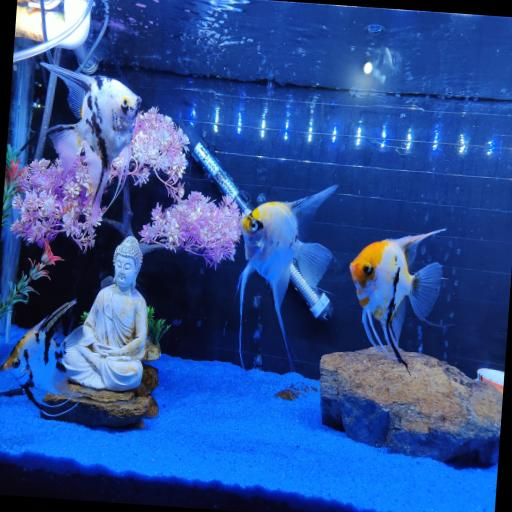Fish: (238, 185, 336, 370), (41, 63, 140, 220), (349, 229, 444, 369), (0, 300, 81, 410)
